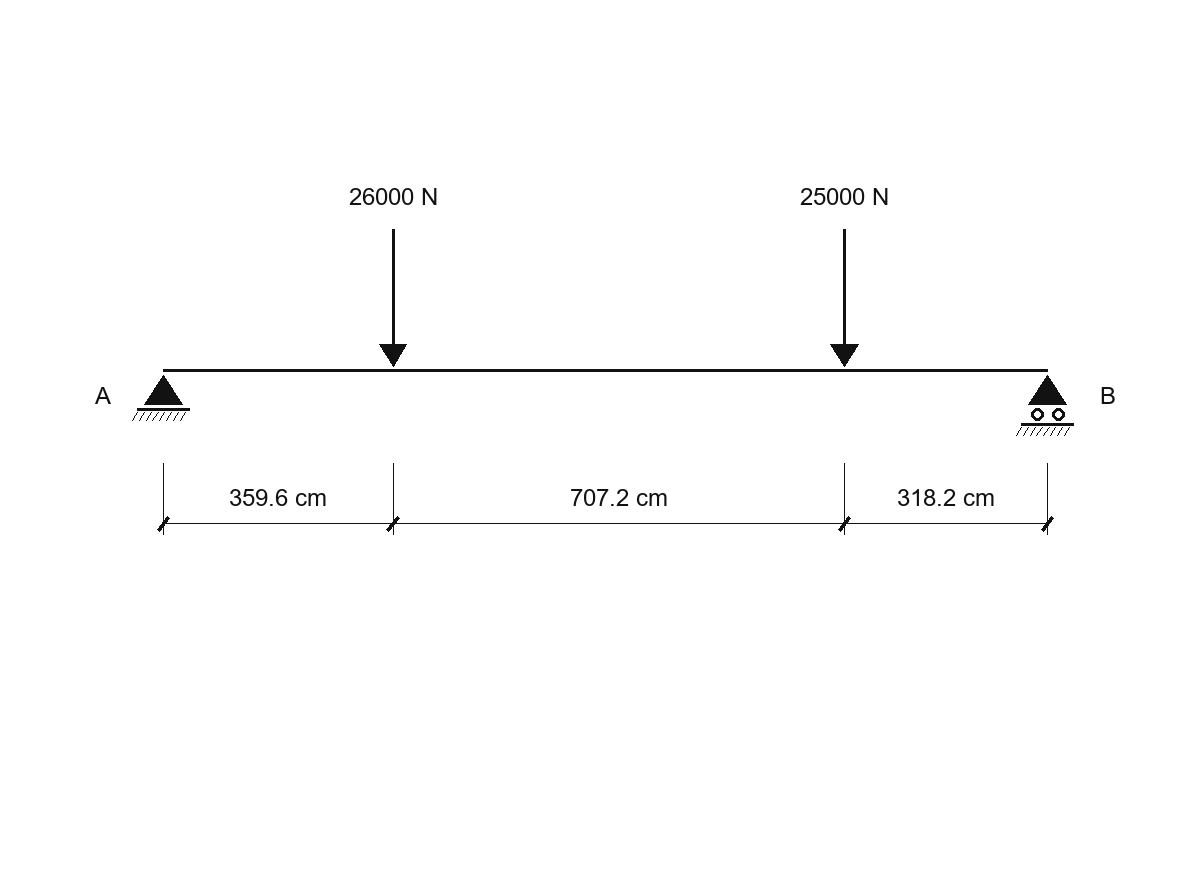pin_support: (132, 375, 190, 421)
point_load: (830, 229, 859, 367), (379, 229, 407, 367)
roller_support: (1016, 375, 1074, 436)
